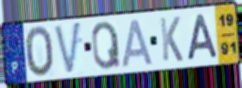A: (121, 17, 156, 69), (186, 12, 220, 62)
K: (158, 15, 185, 63)
O: (24, 24, 56, 79)
Q: (90, 20, 123, 72)
V: (53, 19, 83, 77)
